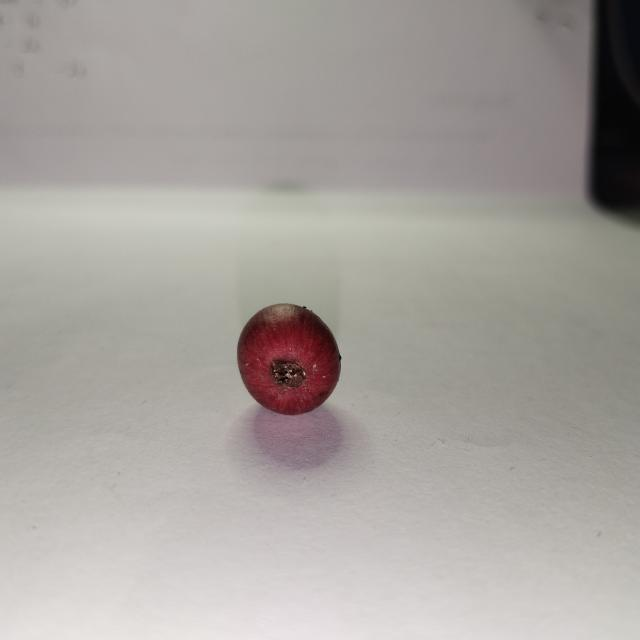Infectado: (237, 303, 340, 415)
